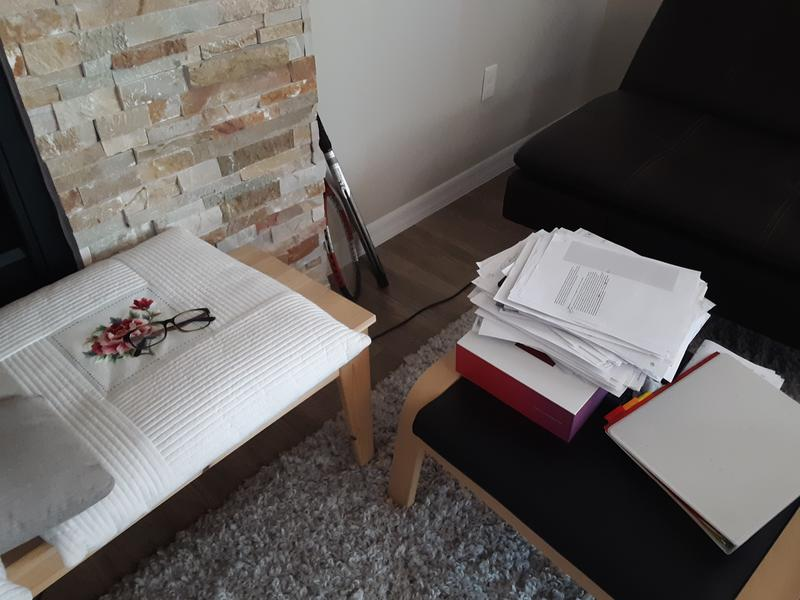glasses: (124, 307, 217, 358)
